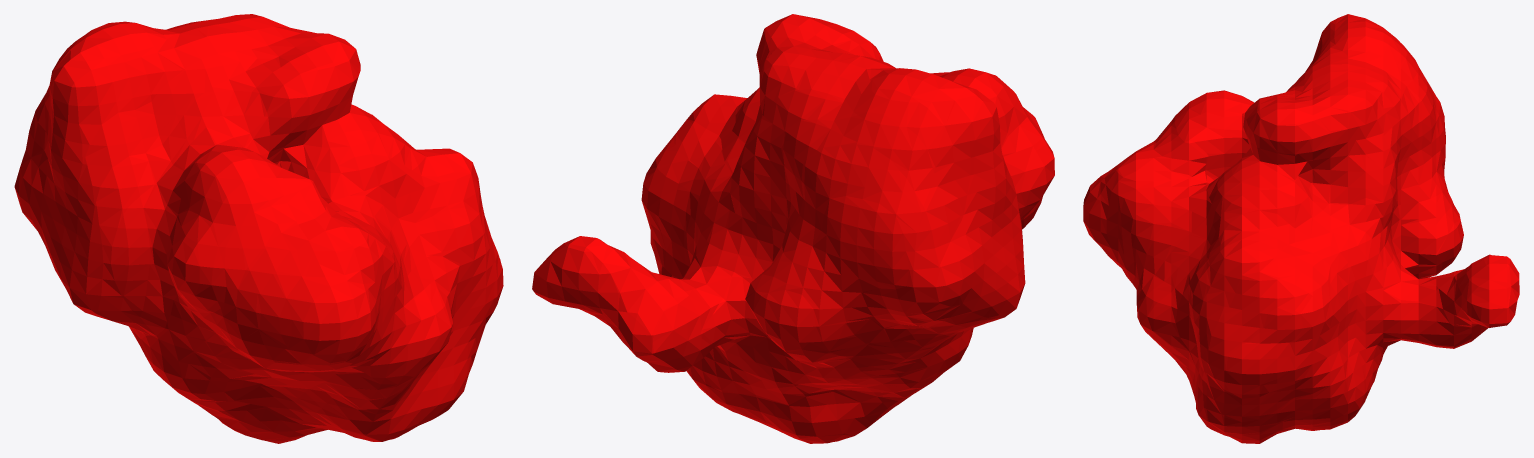
File: csiD_coarse.dae
The picture shows the model from 3 angles, left to right: view 1: azimuth 30°, elevation 25°; view 2: azimuth 150°, elevation 25°; view 3: azimuth 270°, elevation 25°; orthographic projection. The views are drawn at different scales.
Visible parts, largest first — view 1: csiD; view 2: csiD; view 3: csiD.
Part boxes in pixels (bbox=[...]): csiD: bbox=[14, 14, 503, 443]; csiD: bbox=[532, 14, 1054, 443]; csiD: bbox=[1083, 14, 1519, 443].
Size of the model in its own units: 55.55 by 57 by 65.49.
